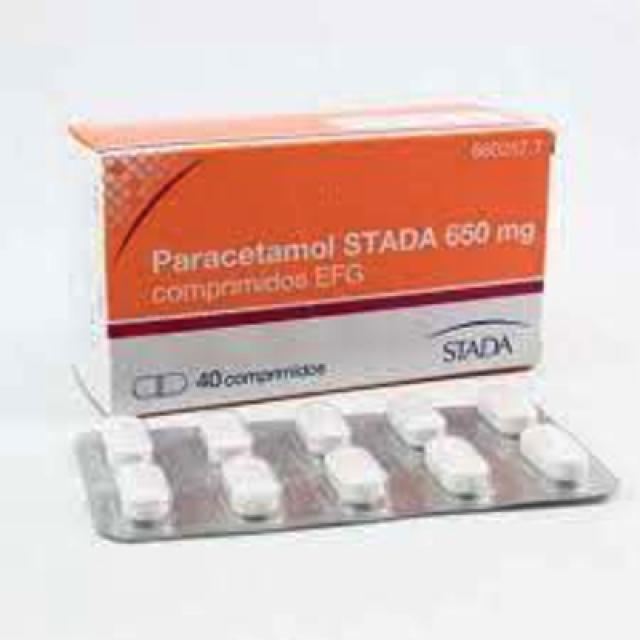counterfeit: (59, 112, 573, 413), (65, 387, 608, 553)
